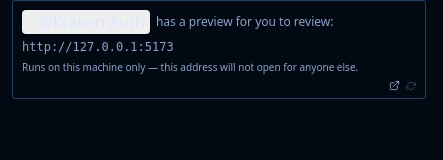
Test: a preview card opens its own agent's port, or refuses › REFUSES rather than falling back when the live read itself fails
Double-click the element with test id "concierge-preview-card": (219, 50) [12,0,426,99]
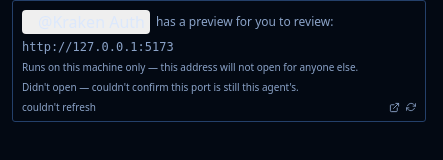
expect the message with test id "concierge-preview-refused" reads "Didn't open — couldn't confirm this port is still this agent's.": met, box [22,80,299,94]
